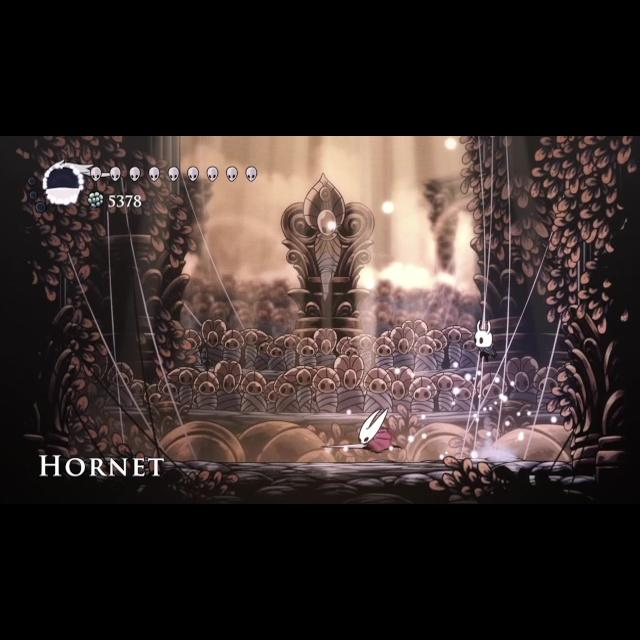Enemy: (322, 408, 412, 462)
Player: (473, 320, 501, 366)
